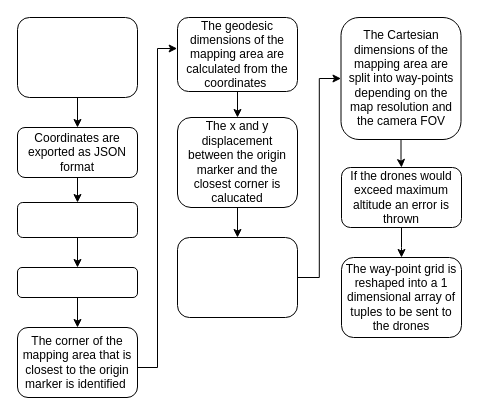
The diagram is 479 pixels wide and 415 high, and some of its shapes have lost their labels. Here are the shapes that lost their labels. From the top down, the box of each, then its label:
(16, 16, 138, 98): User chooses the geographic area to map and the origin location from geojson.io
(16, 202, 138, 238): JSON file is saved to disk by the user
(16, 266, 138, 298): JSON file is parsed in Python
(176, 236, 298, 318): The user is prompted to input the map scale, i.e. the width of each photograph
